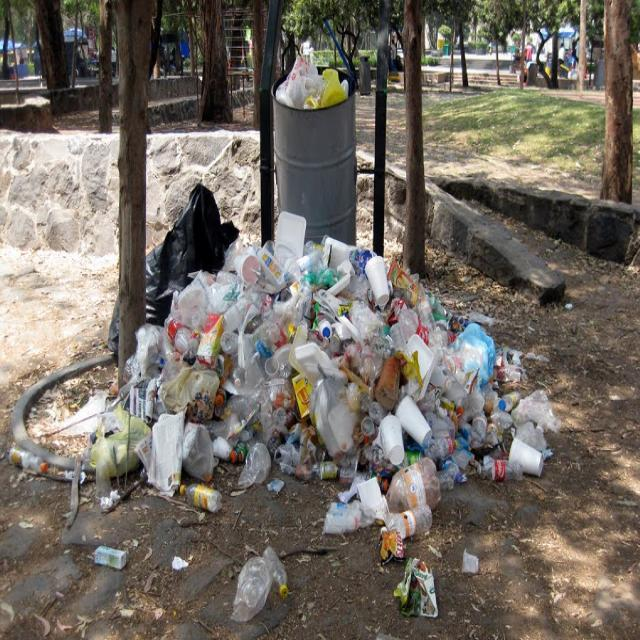bin: (269, 88, 359, 239)
plastic: (80, 210, 573, 554), (153, 186, 233, 293)
